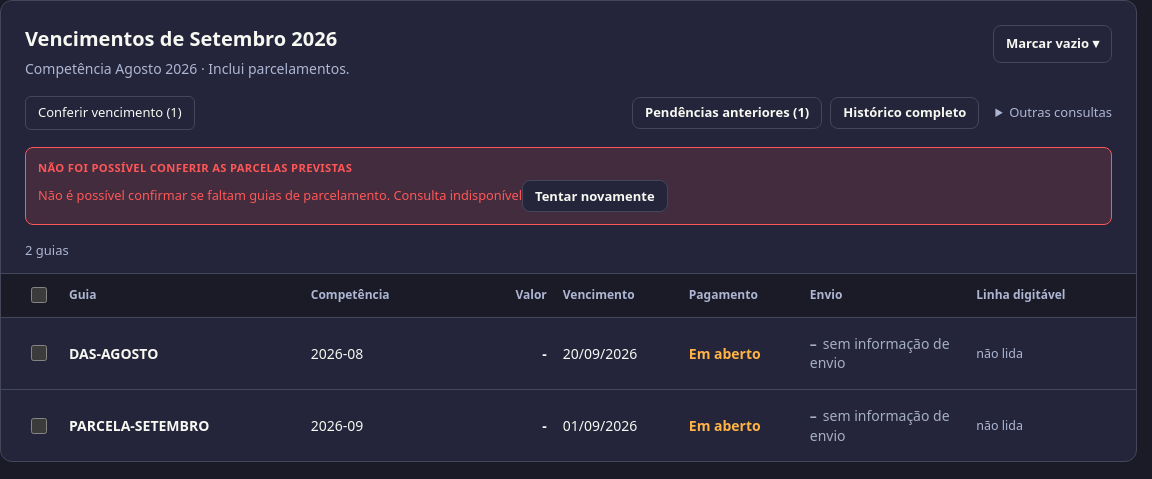
Test: falha de conferência é explícita e permite repetir leitura
This screenshot has width=1152, height=479.
Expected: the text "Não foi possível conferir as parcelas previstas" is shown, [38,160,352,174]
Click the button "Tentar novamente" at [595, 196], box [522,180,668,212]
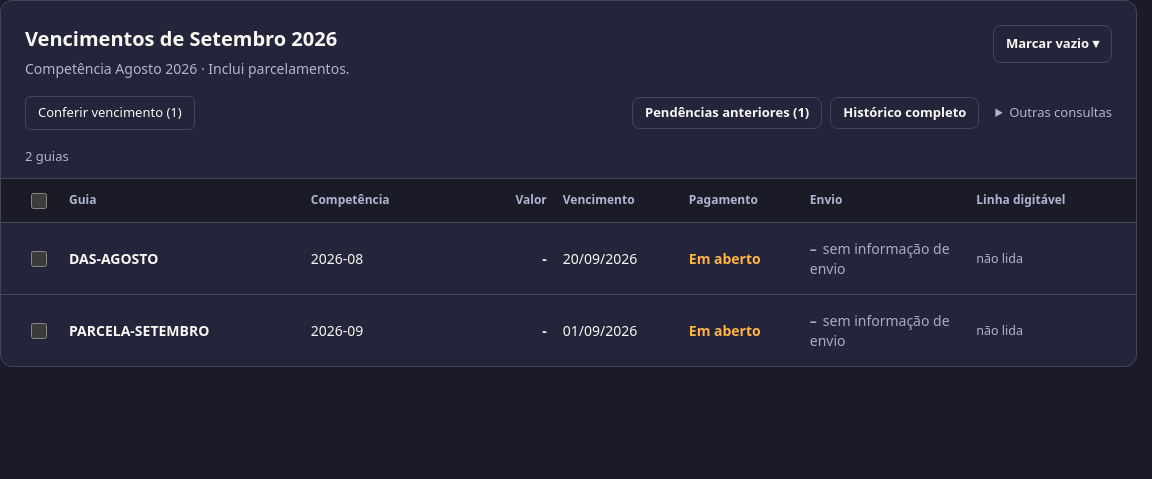
Result: the text "Não foi possível conferir as parcelas previstas" is gone
